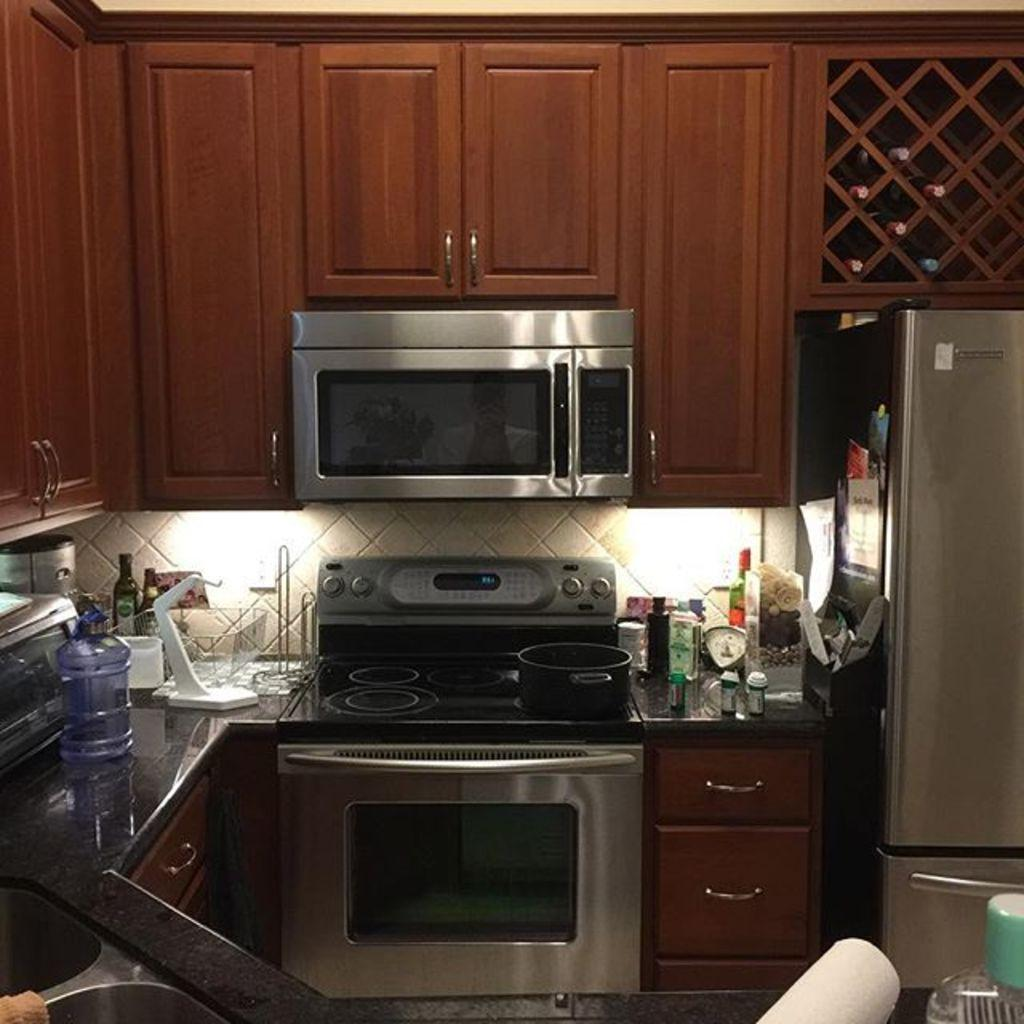cabinet_door: (130, 52, 284, 500), (636, 58, 780, 500), (298, 48, 460, 294), (463, 58, 619, 302), (38, 48, 104, 505), (662, 828, 814, 953), (0, 54, 33, 504), (662, 746, 812, 828), (135, 800, 209, 902)
handle: (299, 741, 627, 788), (907, 865, 1019, 916), (700, 874, 766, 914), (706, 770, 764, 808), (159, 839, 199, 883), (44, 432, 67, 506), (28, 444, 50, 510), (441, 230, 459, 294), (644, 430, 662, 494), (268, 431, 283, 489), (466, 232, 480, 292)
